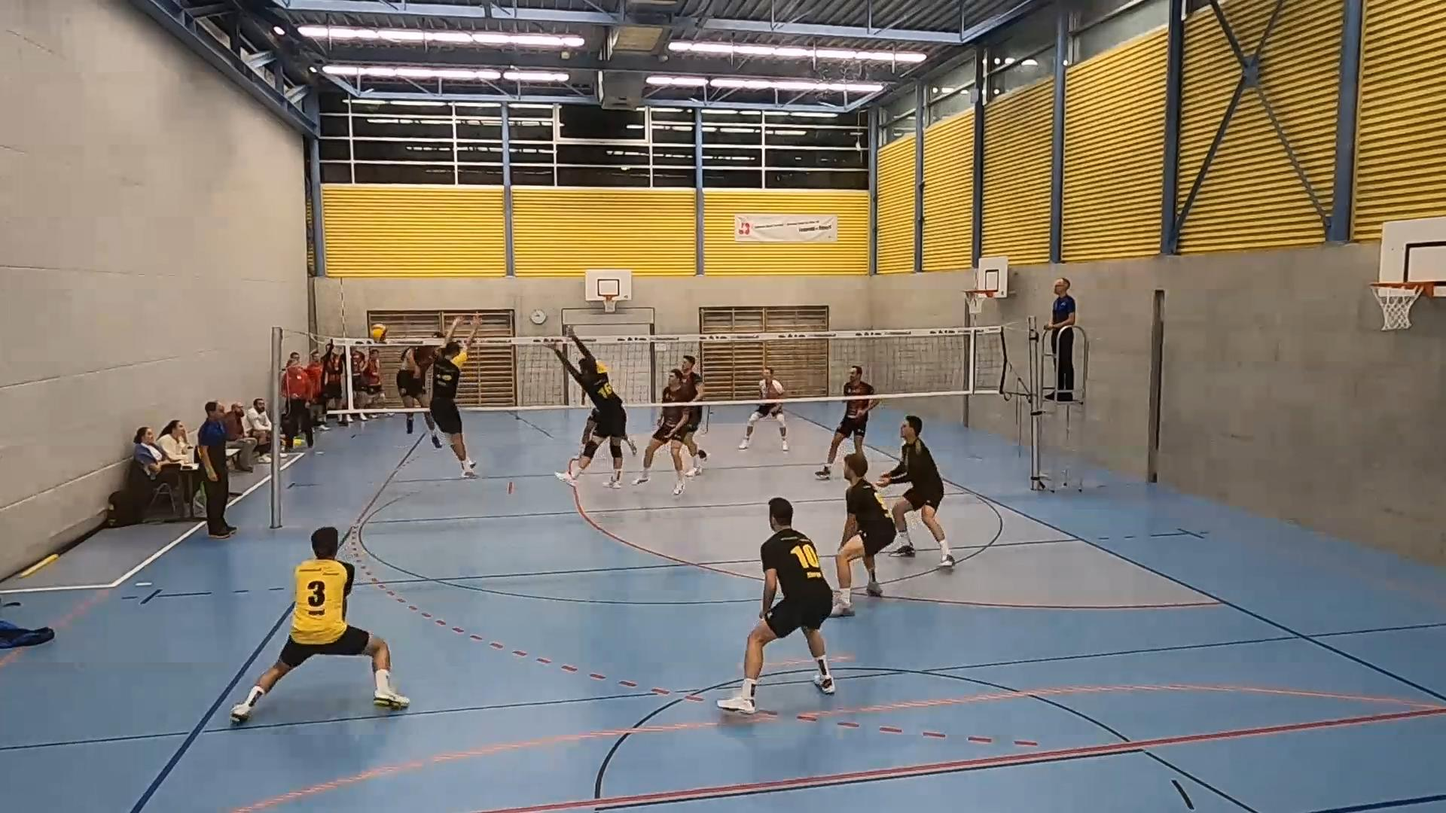Attack: (397, 317, 446, 461)
Block: (543, 332, 635, 483), (422, 312, 489, 478)
Player: (231, 527, 409, 723), (717, 498, 834, 714), (876, 416, 955, 567), (832, 452, 895, 616), (633, 369, 690, 495), (816, 365, 877, 479), (738, 367, 788, 452), (679, 355, 707, 476), (580, 407, 597, 447)
ball: (365, 328, 387, 343)
